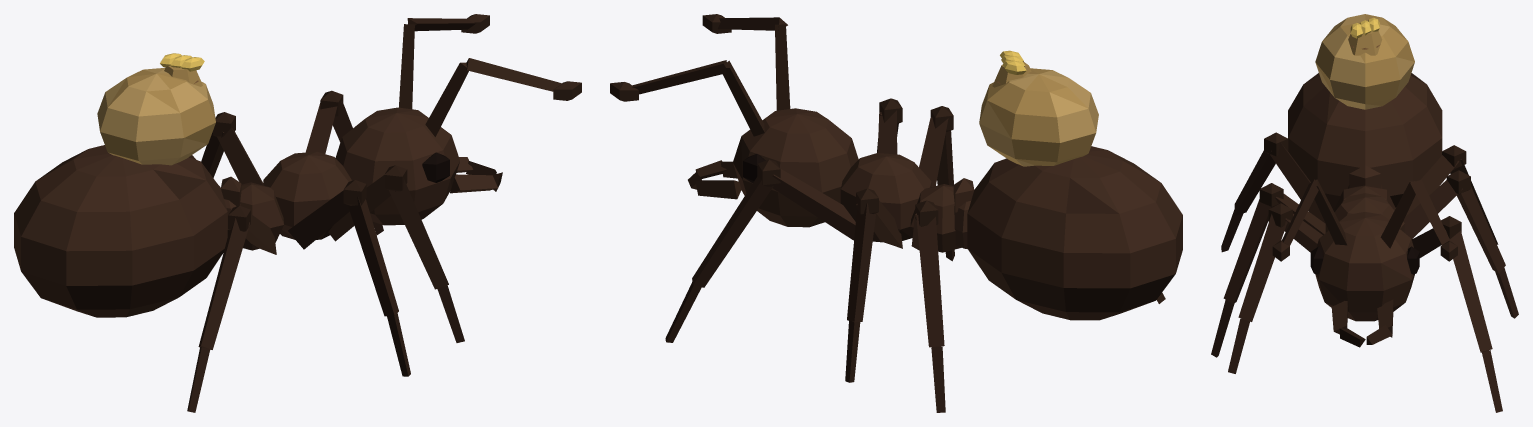
Rendered from ants-harvester.glb.
The picture shows the model from 3 angles, left to right: view 1: azimuth 30°, elevation 25°; view 2: azimuth 150°, elevation 25°; view 3: azimuth 270°, elevation 25°; orthographic projection. The views are drawn at different scales.
Size of the model in its own units: 13.08 by 7.2 by 7.4.
